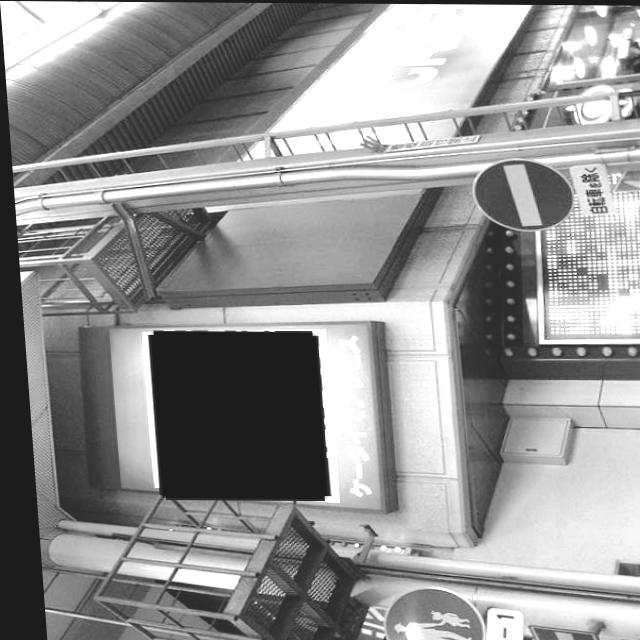qr_code: (145, 331, 320, 498)
